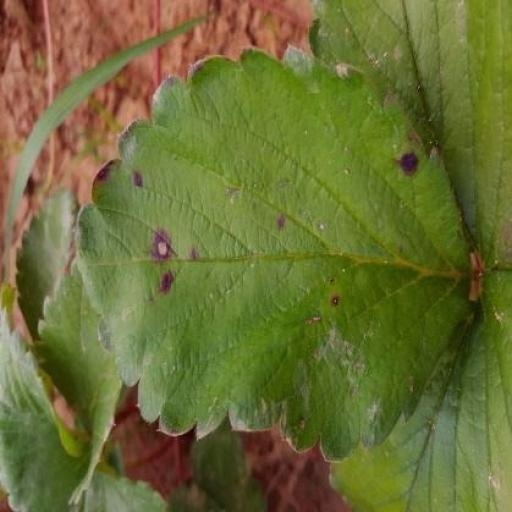Leaf Spot: (74, 46, 480, 466), (308, 243, 511, 511), (326, 0, 511, 242)
